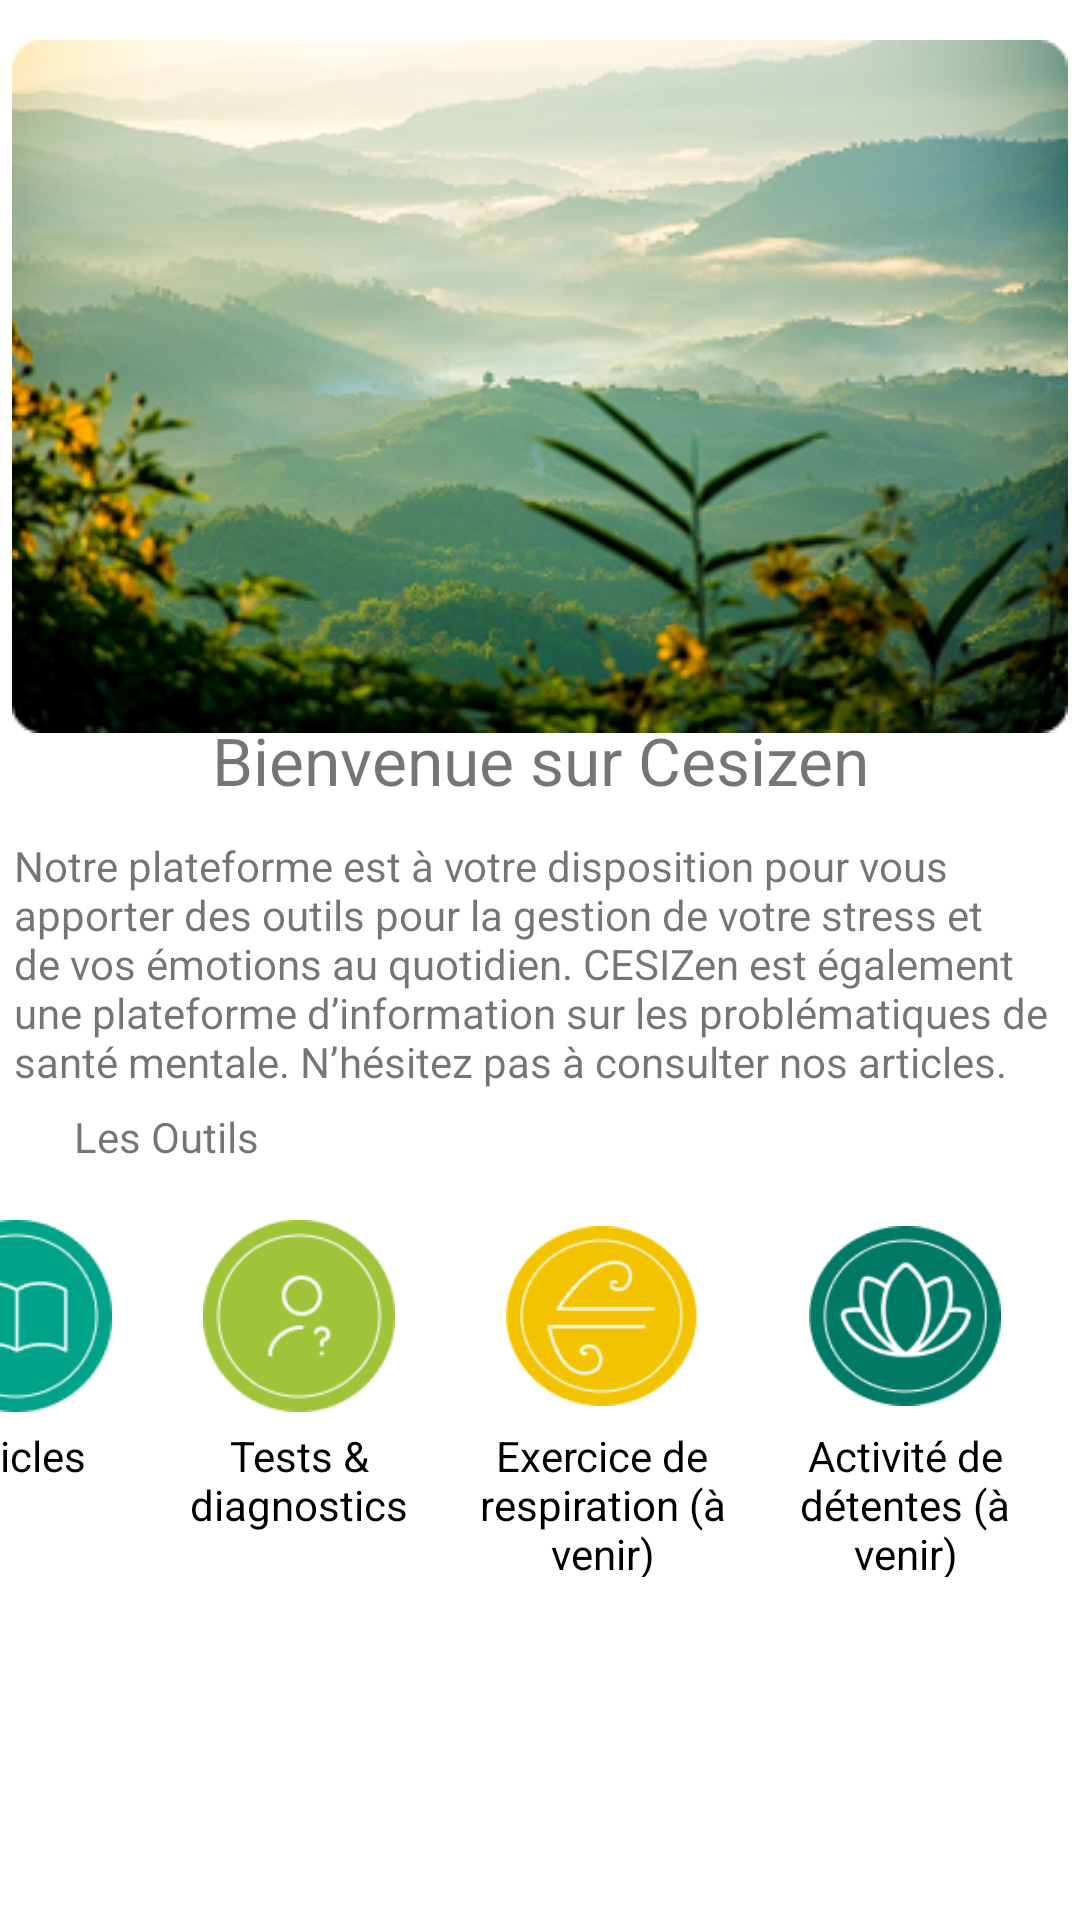

Icon bounding boxes for this 1080px x 1920px phone screenshot, format (x1, y1, x2, y2):
Fleur de lotus: (809, 1226, 1001, 1406)
Souffle du vent: (506, 1226, 698, 1406)
